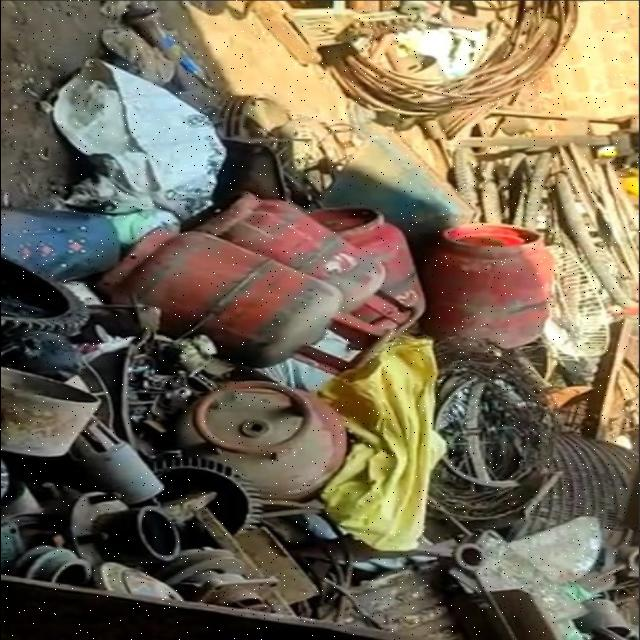cylinder: (94, 225, 393, 377), (199, 192, 419, 333), (179, 380, 347, 499), (426, 222, 552, 350)
